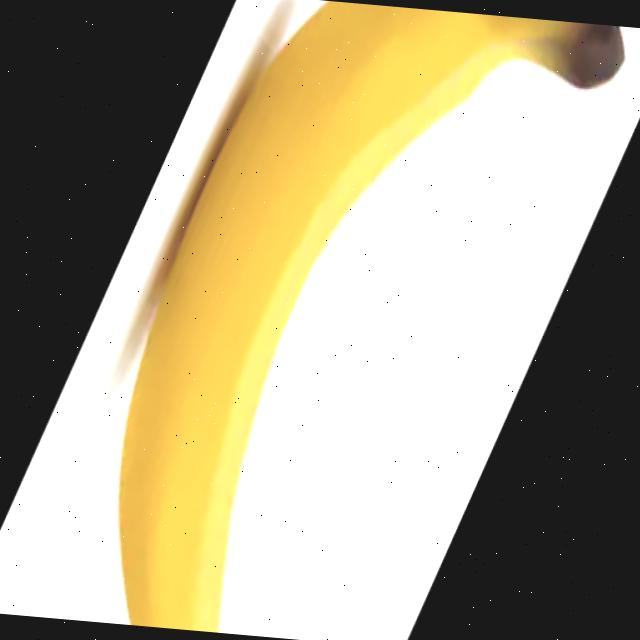Ripe: (102, 0, 626, 640)
